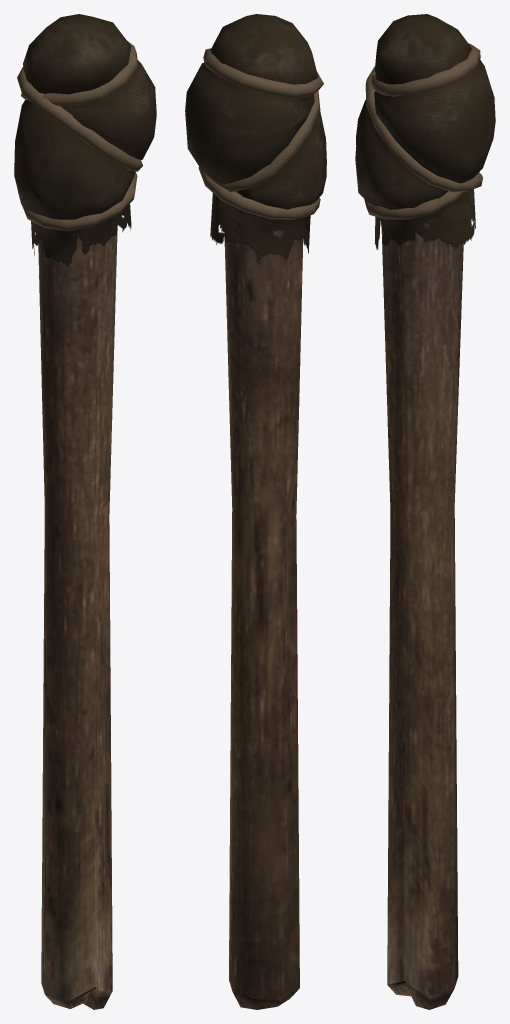
File: torch.glb
3 views of the same model, side by side, from view 1: azimuth 30°, elevation 25°; view 2: azimuth 210°, elevation 25°; view 3: azimuth 330°, elevation 25° (orthographic).
Parts seen in each view (by area): view 1: Object_4, Object_3, Object_2; view 2: Object_4, Object_3, Object_2; view 3: Object_4, Object_3, Object_2.
Part boxes in pixels (x1,y1,x2,y2): Object_4: (38, 225, 117, 1009); Object_3: (14, 14, 156, 265); Object_2: (17, 41, 142, 231); Object_4: (224, 219, 303, 1009); Object_3: (185, 14, 326, 263); Object_2: (198, 48, 323, 219); Object_4: (381, 220, 463, 1009); Object_3: (355, 14, 495, 250); Object_2: (364, 43, 482, 219).
Bounding box in the file's own units: 0.1208 × 0.9167 × 0.1121.
Materials: 3 (3 with a texture image).
